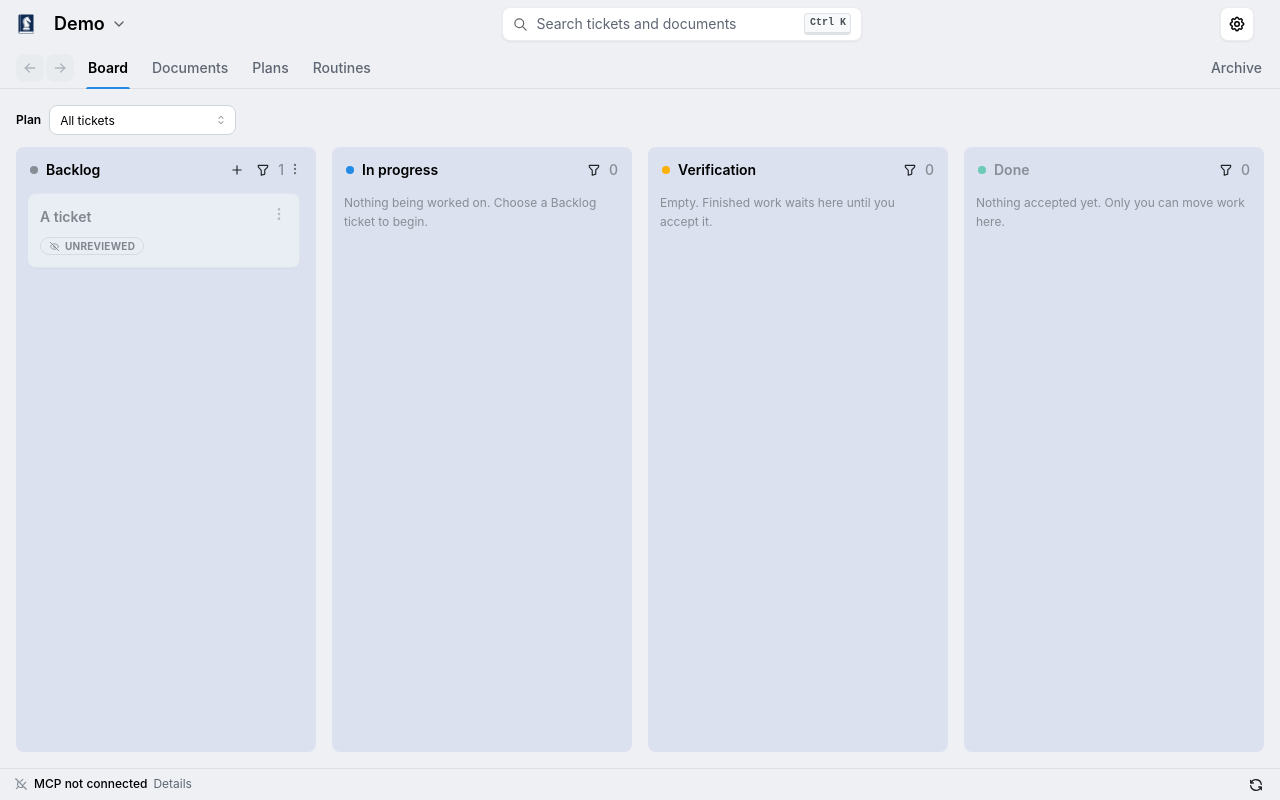
Test case: editing a ticket as Markdown source › shows the title and the body as source, without the frontmatter
Click the text "A ticket". click: (66, 216)
box: x1=40 y1=208 x2=91 y2=225
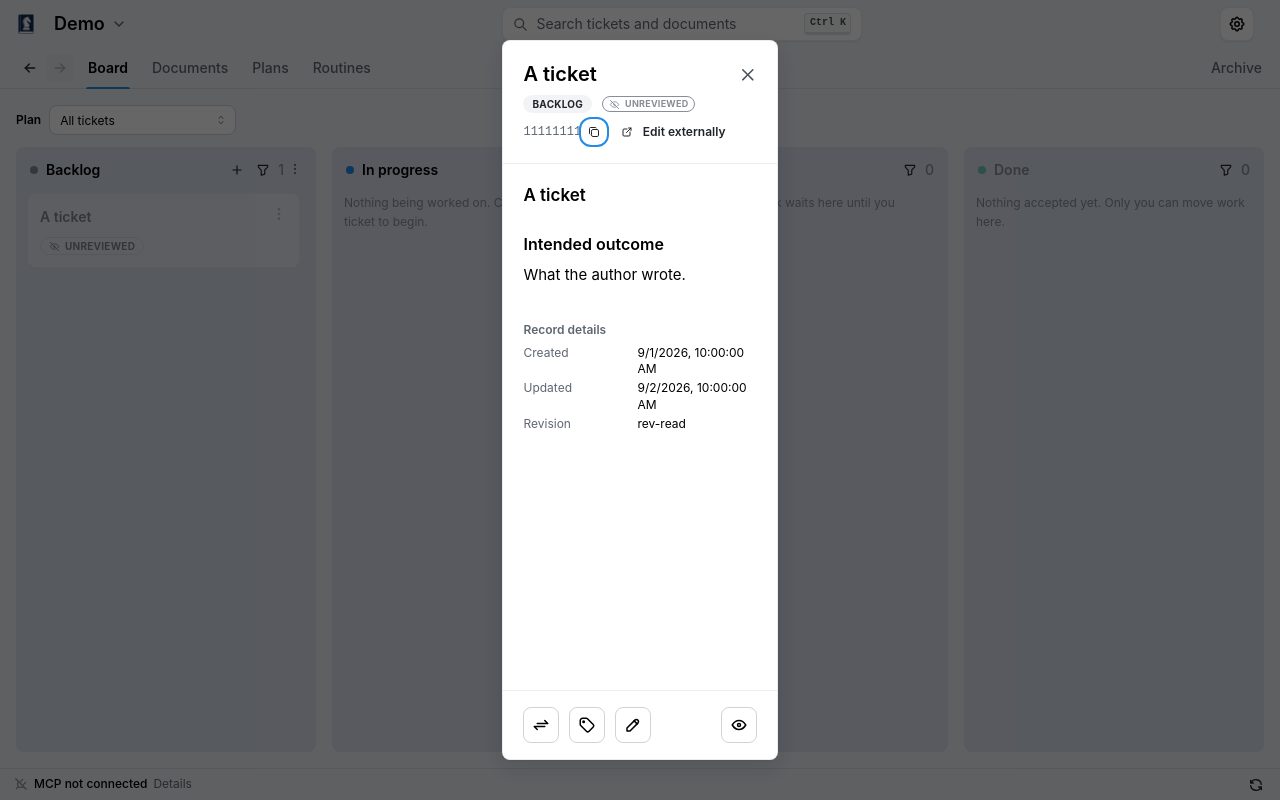
Click the button named "Edit ticket". click: (634, 725)
box: x1=616 y1=707 x2=652 y2=743
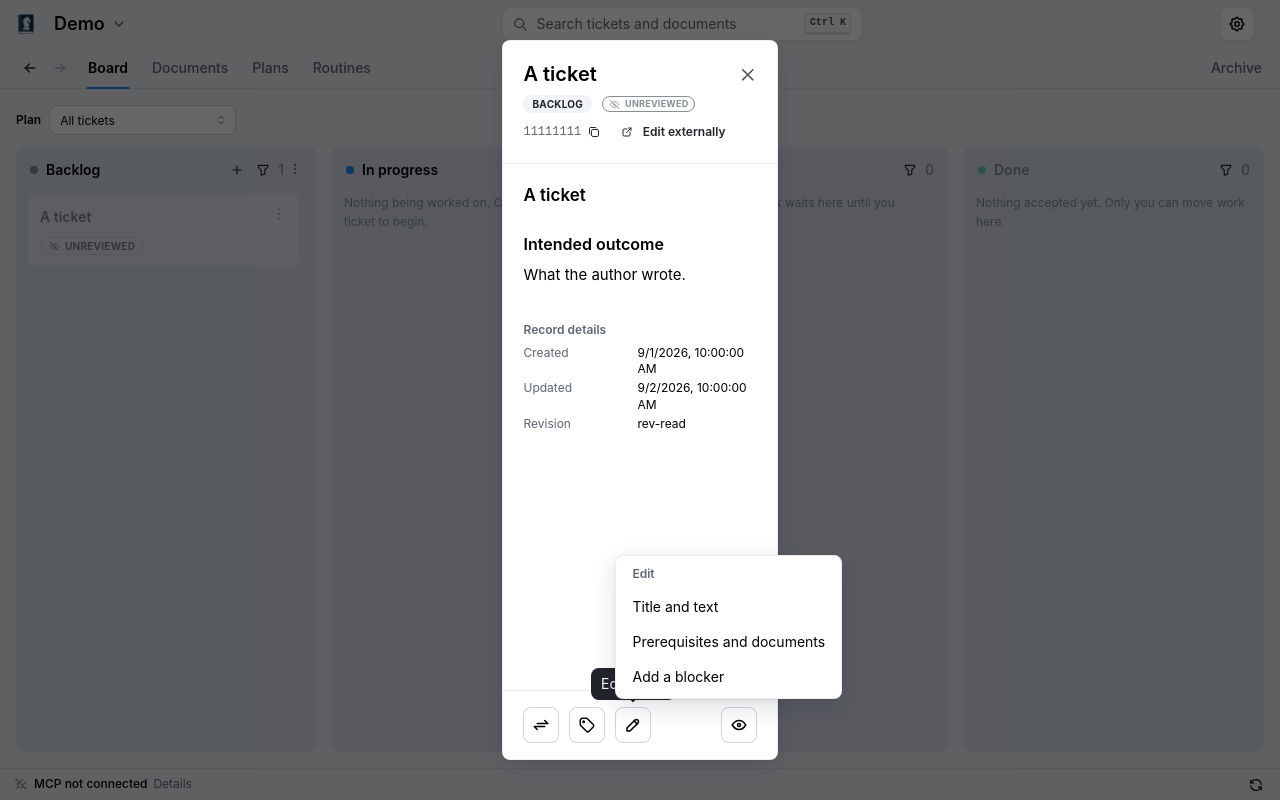
Click the menu item "Title and text". click: (729, 606)
box: x1=620 y1=589 x2=837 y2=624
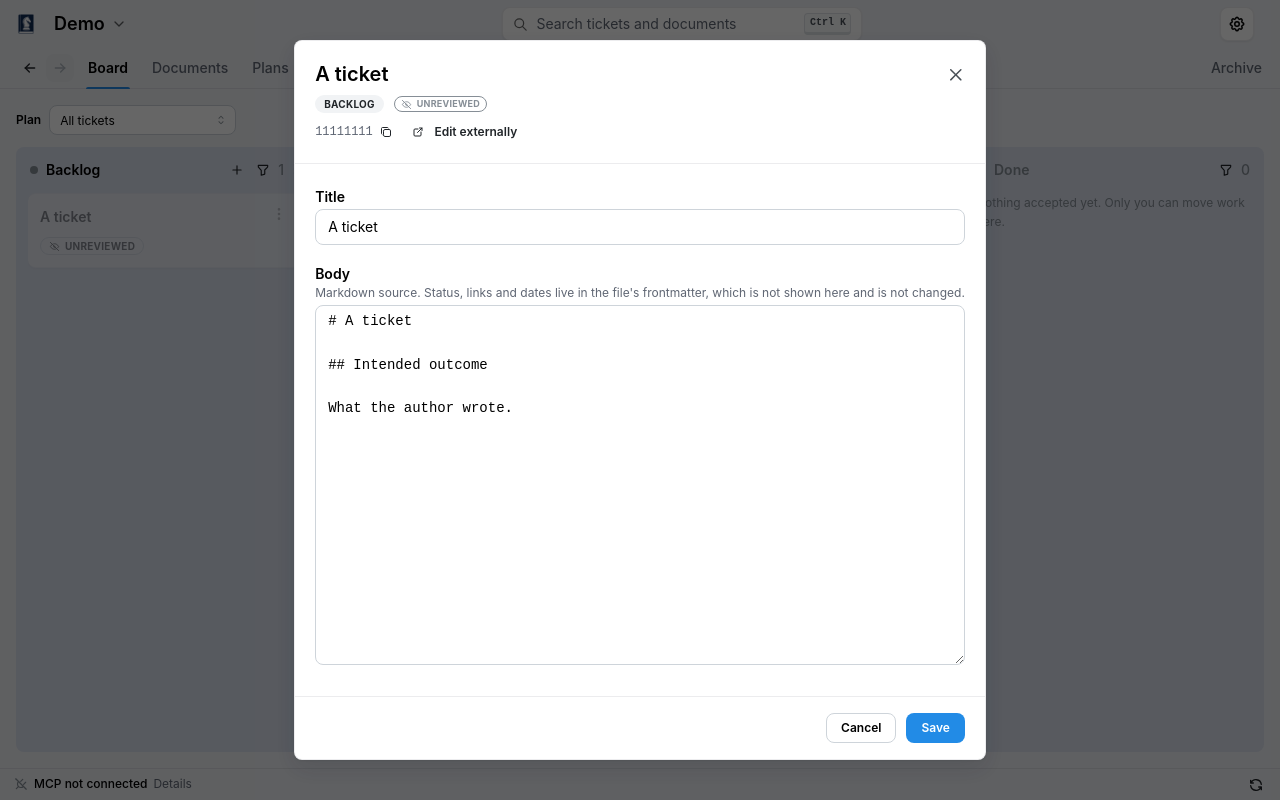
Result: the field labelled "Title" holds "A ticket" at x1=315 y1=209 x2=965 y2=245
